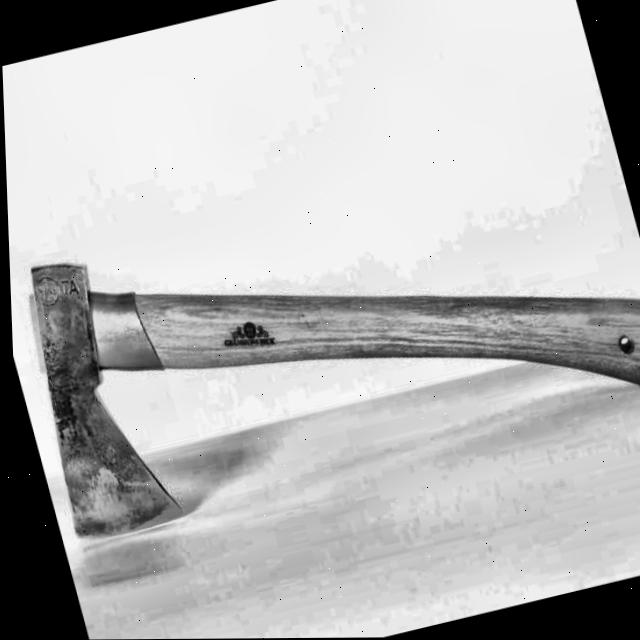kapak: (4, 95, 640, 605)
